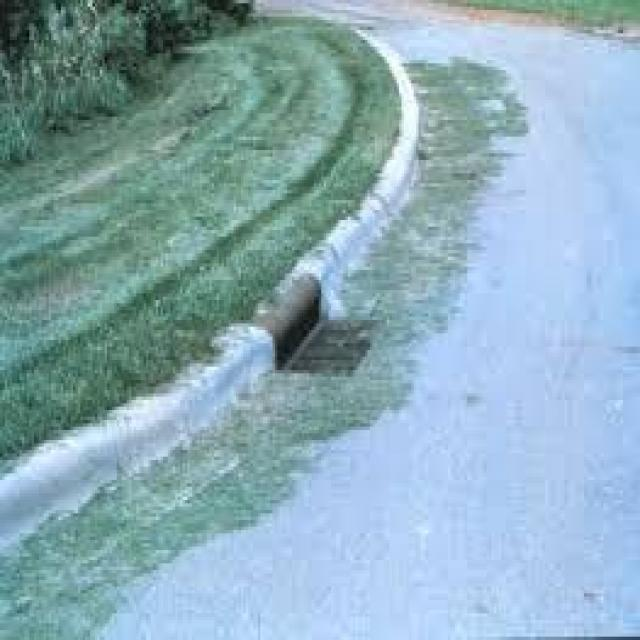curb: (2, 406, 183, 558), (168, 304, 339, 415), (354, 24, 437, 203), (300, 208, 426, 298)
